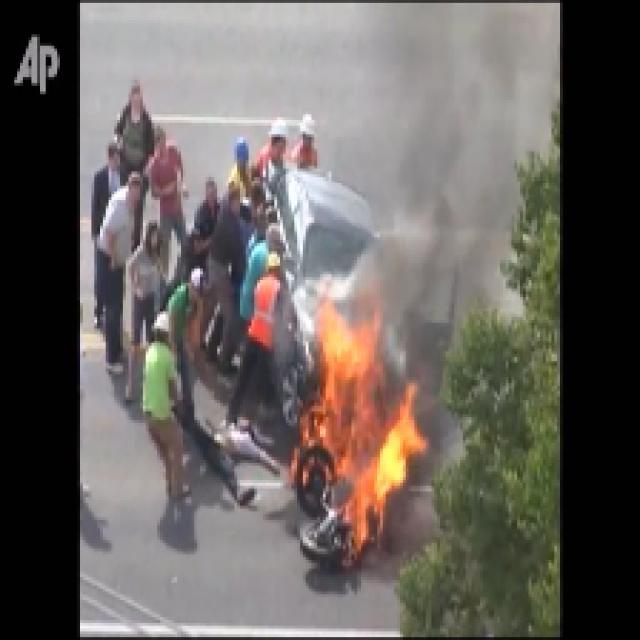Fire: (320, 334, 420, 512)
Smoke: (390, 22, 500, 303)
